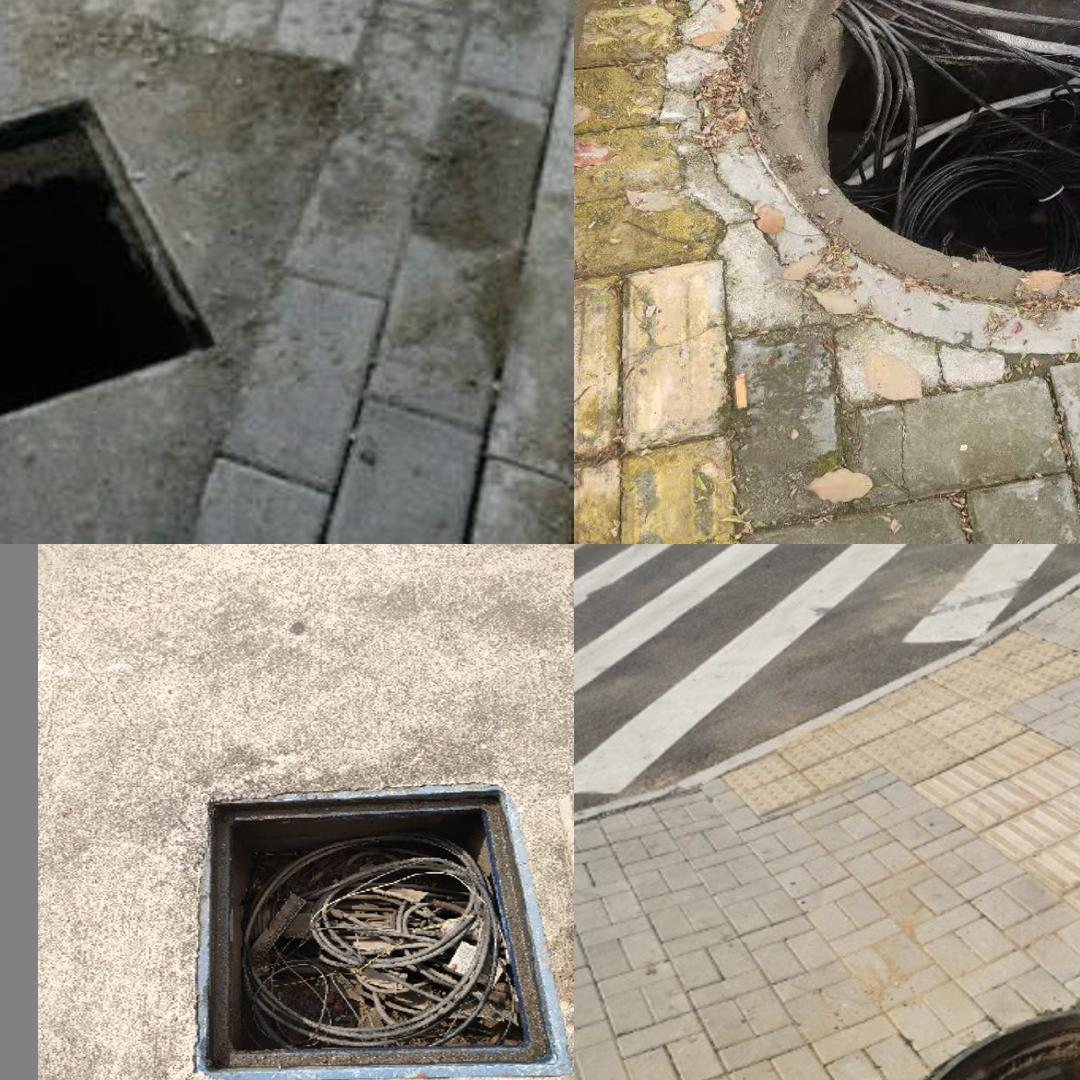lose: (705, 0, 1080, 354), (190, 783, 572, 1080), (0, 92, 249, 502), (892, 1004, 1080, 1080)
